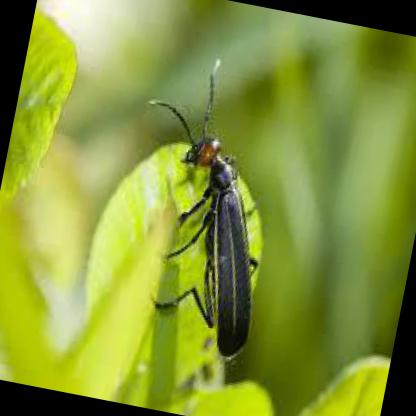blister beetle: (153, 65, 260, 362)
